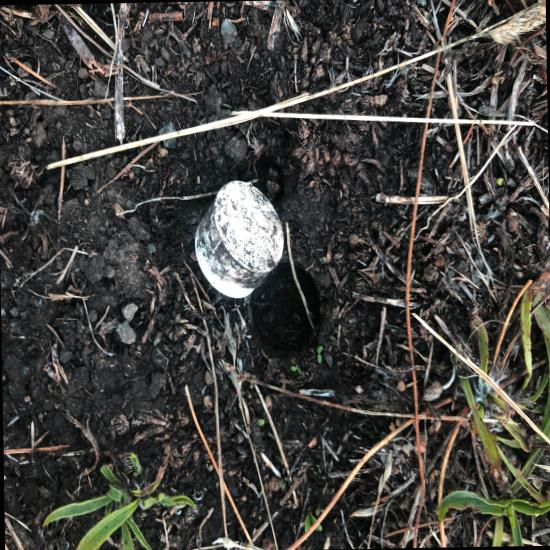Foam cup: (414, 146, 460, 208)
Garbage bag: (503, 0, 546, 82), (517, 193, 550, 264)
